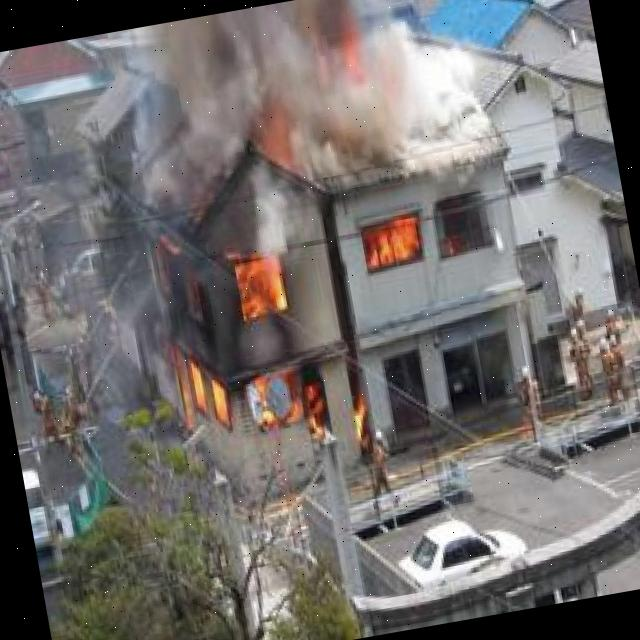fire: (144, 230, 336, 477), (356, 205, 434, 278)
